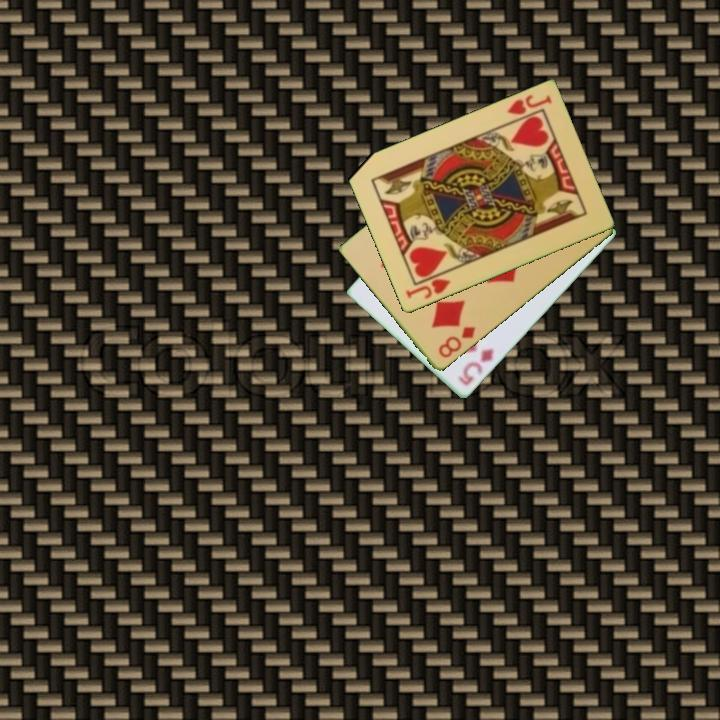5d: (454, 345, 497, 389)
8d: (435, 323, 479, 361)
Jh: (402, 268, 454, 302), (503, 91, 555, 118)
